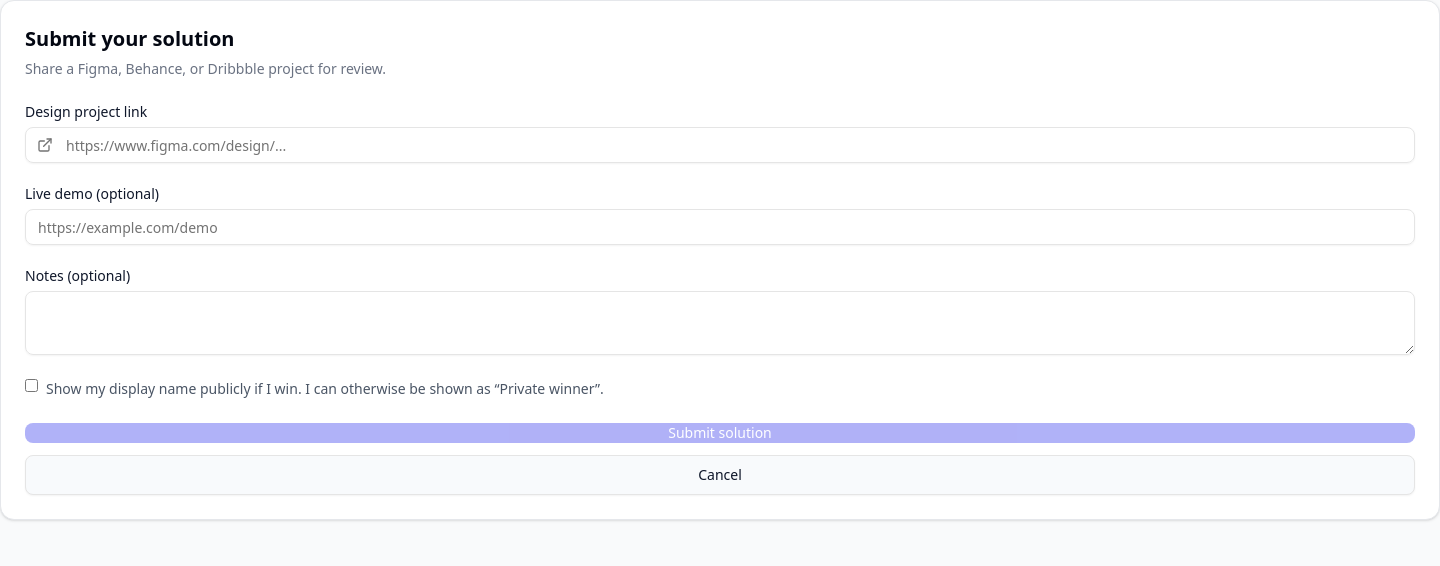
Test: SubmitSolutionForm › rejects unsupported links for a UI/UX Design challenge
Type "https://example.com/design" into the field labelled "Design project link" at (720, 145), box left=25, top=127, right=1415, bottom=163
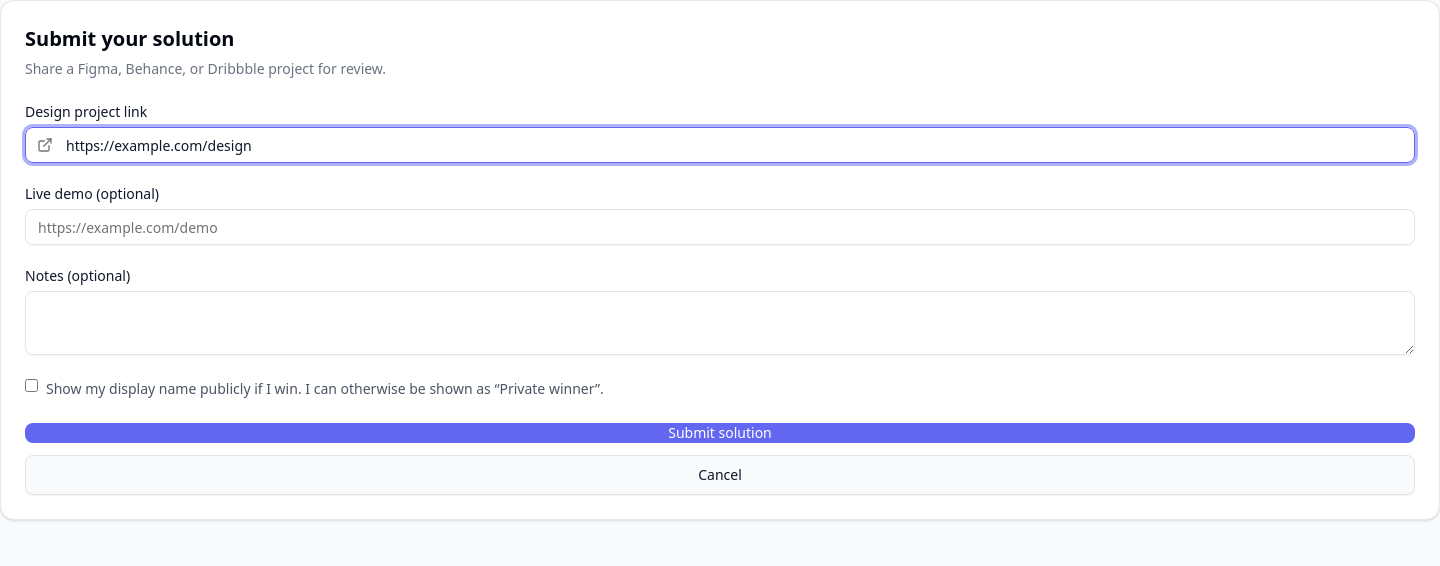
Click the button "Submit solution" at (720, 433), box left=25, top=423, right=1415, bottom=443
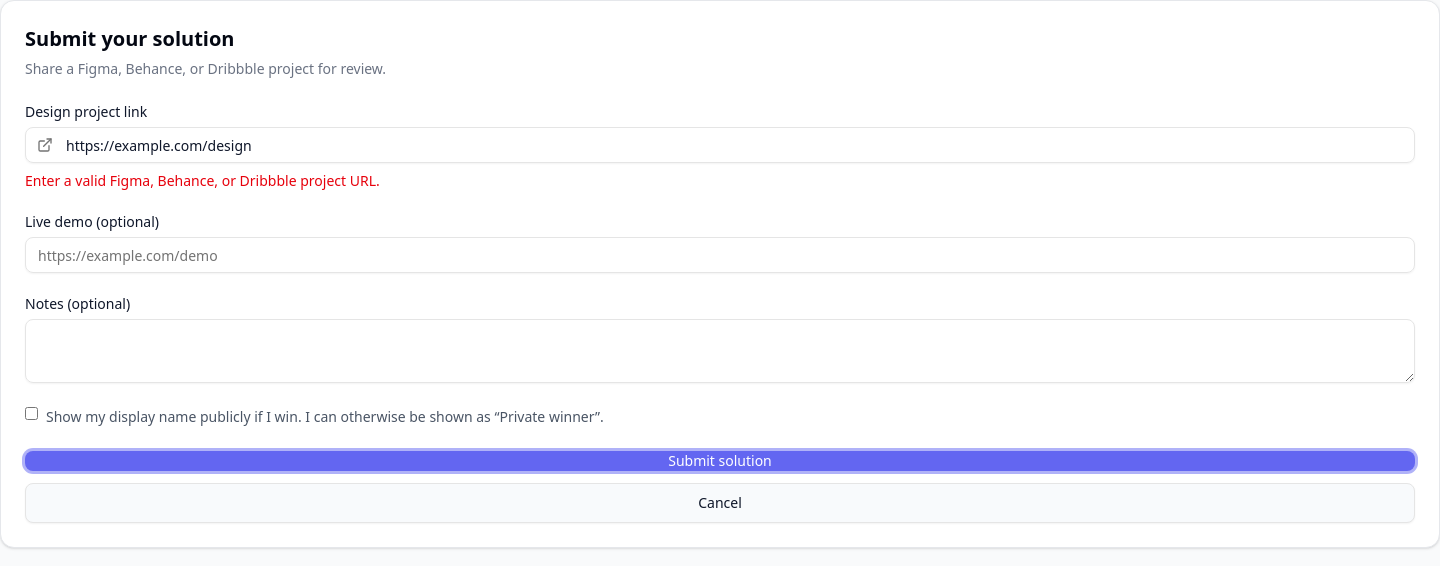
expect the text "Enter a valid Figma, Behance, or Dribbble project URL." is shown: met, box left=25, top=171, right=380, bottom=190
